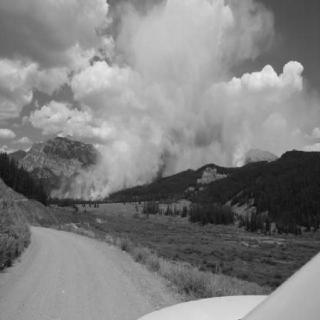Smoke: (97, 53, 245, 175)
